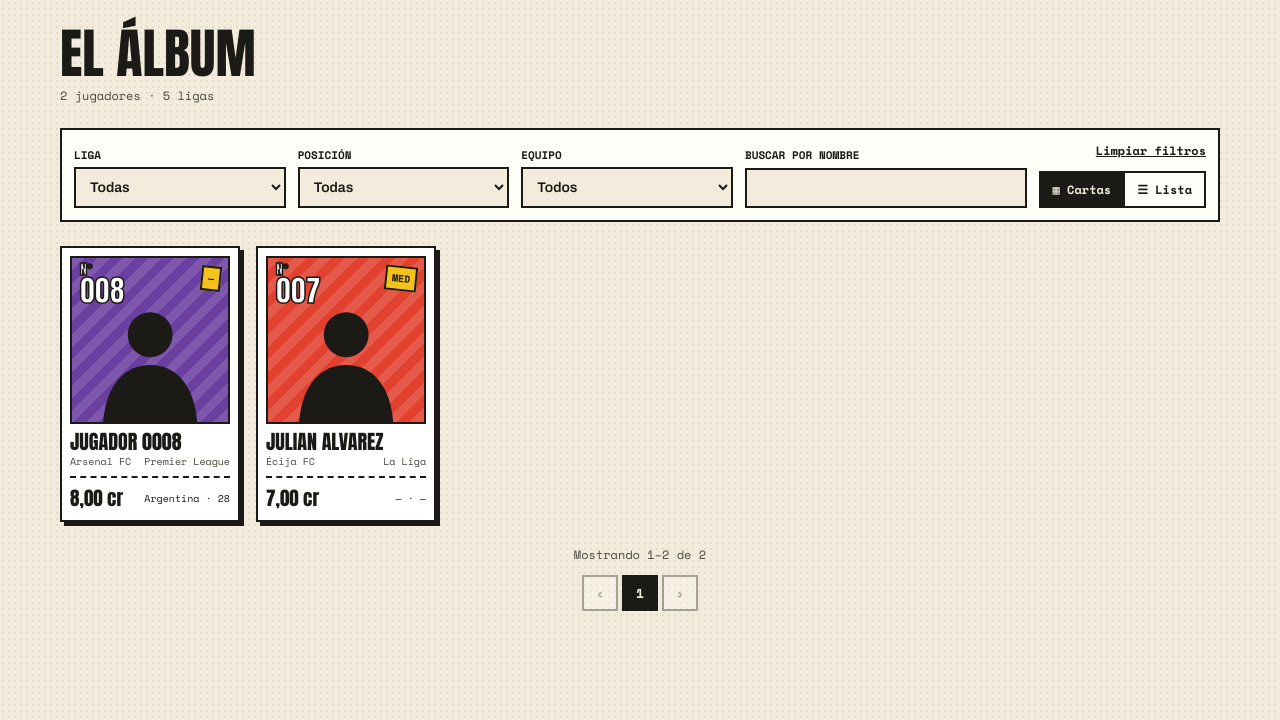
AlbumPage › toggles between cards and the exact non-interactive table without changing results
The width and height of the screenshot is (1280, 720).
Check: the element "N° 007 MED Julián Álvarez Écija FC La Liga 7,00 cr — · —" is shown, box [256,246,436,522]
Click the button "☰ Lista". click: [1166, 190]
box: [1125,171,1206,208]
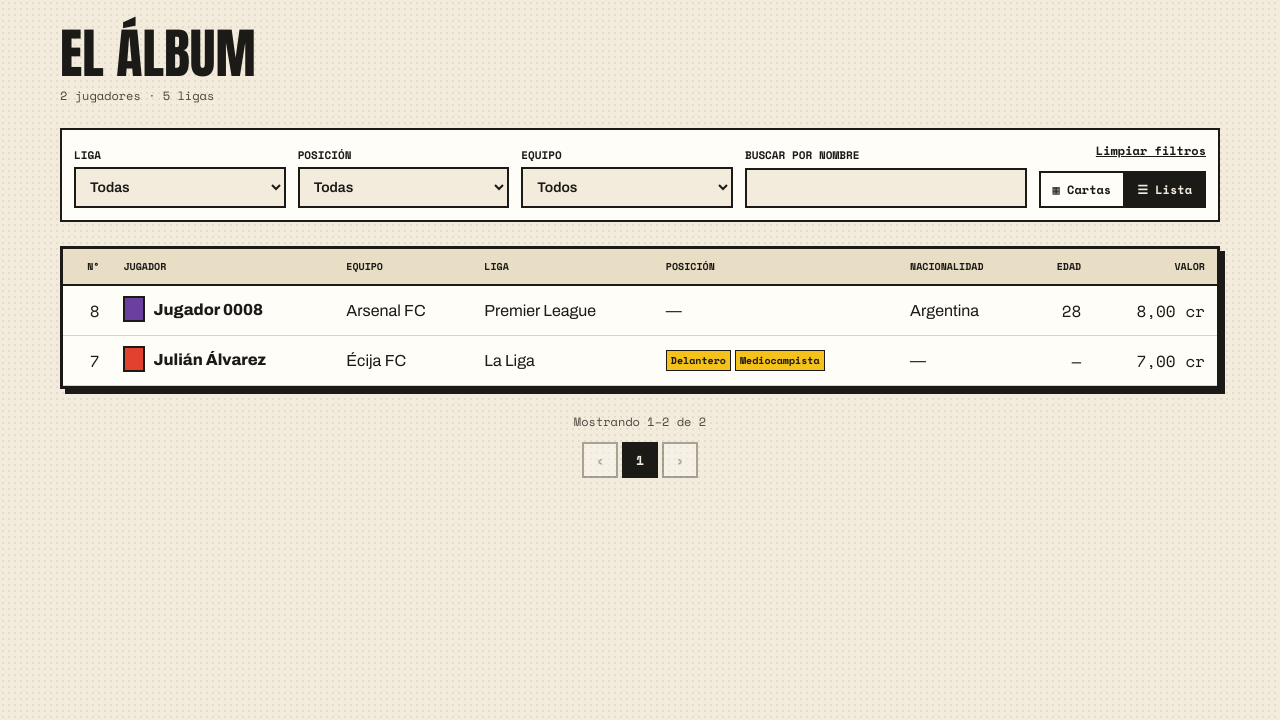
Check: the text "Delantero" is shown, box [666,350,731,371]
Check: the text "Mediocampista" is shown, box [735,350,825,371]
Check: the link "N° 008 — Jugador 0008 Arsenal FC Premier League 8,00 cr Argentina · 28" is gone
